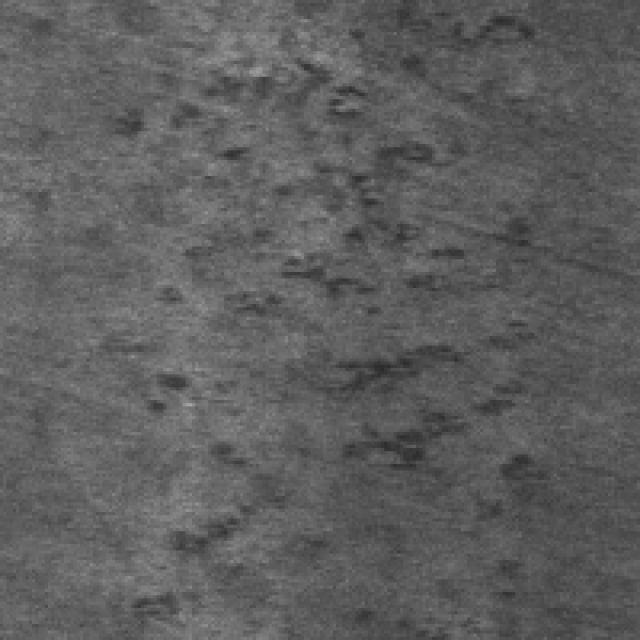rolled-in_scale: (285, 64, 550, 570), (122, 311, 272, 634)
